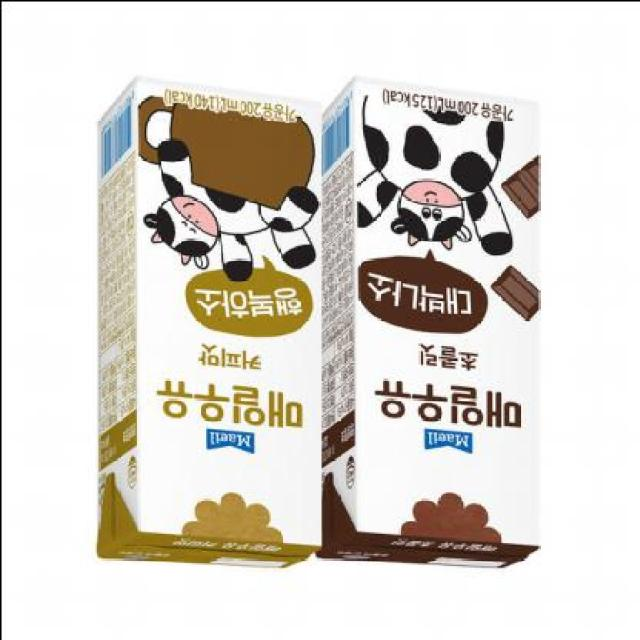tetra: (62, 66, 332, 594), (312, 63, 571, 599)
